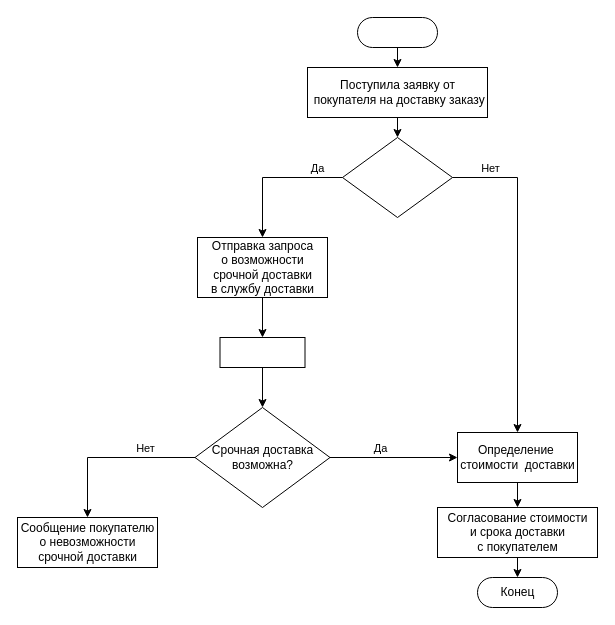
This 615x625 diagram has some shape labels left out. Each missing label, with the box of its shape:
10 мин: (219, 336, 305, 368)
Доставка срочная?: (342, 136, 452, 218)
Начало: (356, 16, 438, 48)
